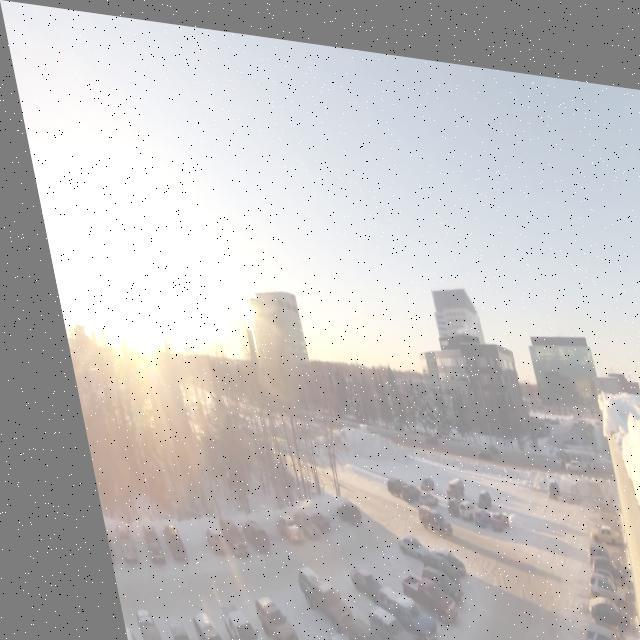Fire: (441, 298, 476, 328)
